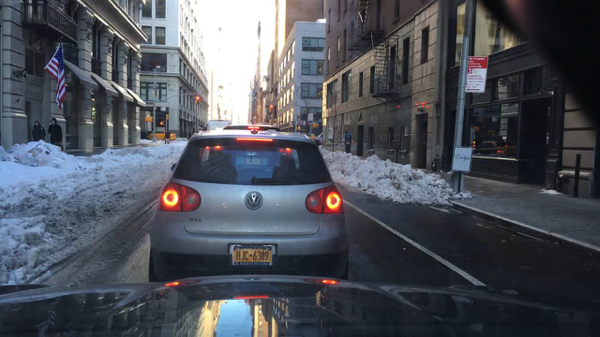car: (148, 131, 351, 292), (224, 125, 283, 131), (146, 131, 173, 141), (315, 132, 323, 145)
person: (48, 118, 63, 152), (34, 121, 45, 142), (165, 129, 169, 143), (187, 131, 192, 139)
traffic light: (294, 126, 300, 132), (269, 105, 273, 114), (146, 116, 152, 122), (159, 121, 165, 126), (196, 95, 199, 103), (165, 114, 168, 120)
traffic sign: (465, 57, 487, 91)
truck: (205, 119, 231, 131)
